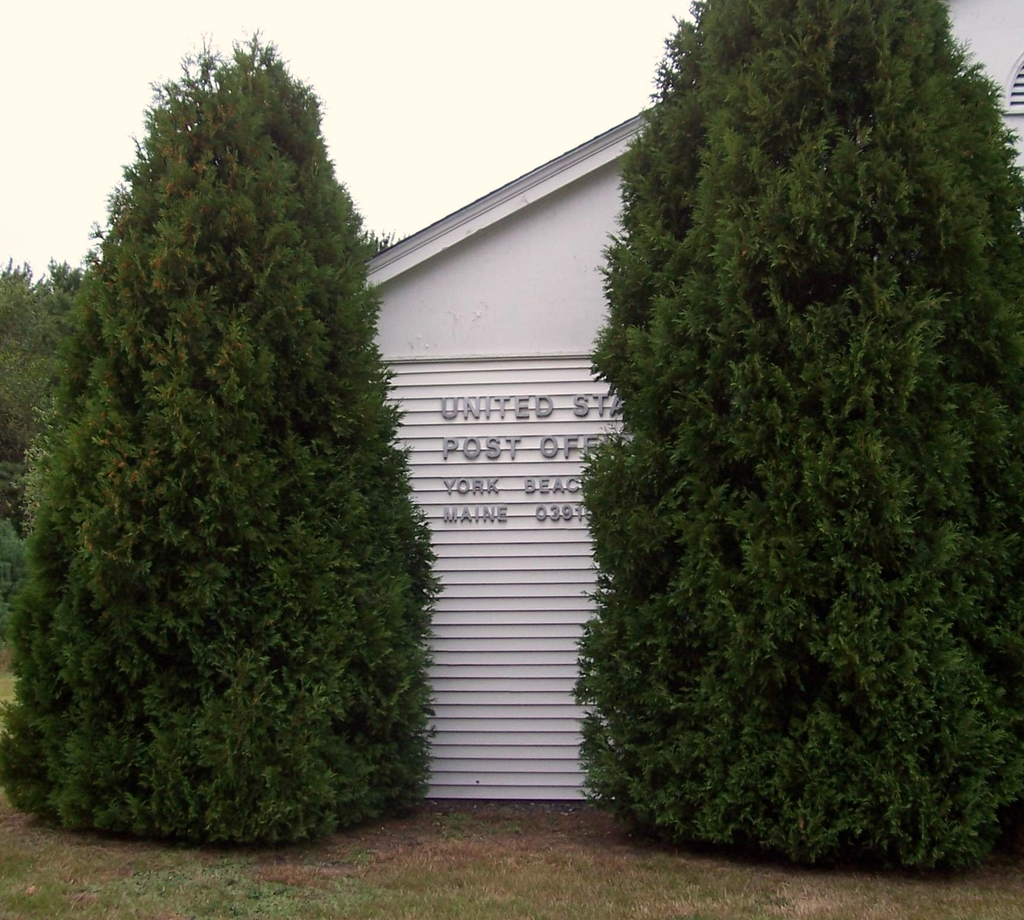Tree: (568, 2, 1024, 875), (0, 25, 450, 845)
